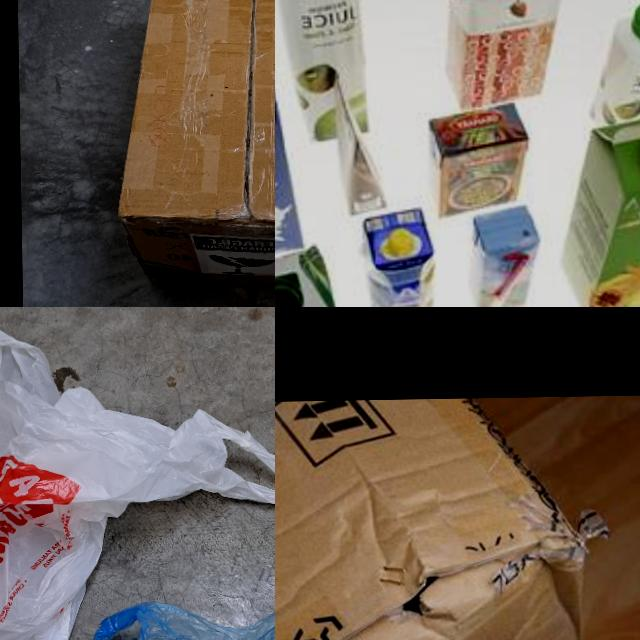caixinha: (557, 112, 640, 307), (445, 0, 568, 107), (465, 201, 543, 307), (359, 207, 439, 307), (275, 40, 307, 264)
papelão: (275, 395, 590, 640), (110, 0, 275, 287)
sacola plástica: (0, 312, 275, 640)
tampa plástica: (275, 279, 307, 307), (390, 227, 415, 259)
